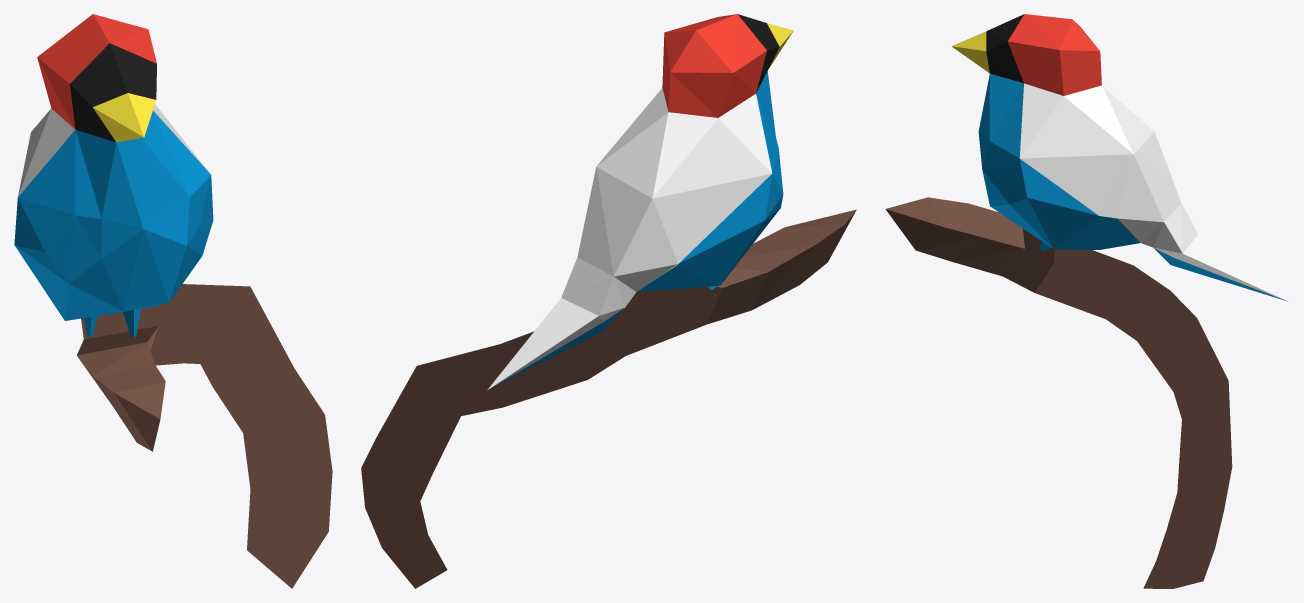
File: animals-bird-014.glb
The picture shows the model from 3 angles, left to right: view 1: azimuth 30°, elevation 25°; view 2: azimuth 150°, elevation 25°; view 3: azimuth 270°, elevation 25°; orthographic projection. The views are drawn at different scales.
Visible parts, largest first — view 1: Node; view 2: Node; view 3: Node.
Boxes of the visible parts, <box> form: Node: <box>14,14,332,588</box>; Node: <box>361,14,856,588</box>; Node: <box>885,14,1288,588</box>.
Size of the model in its own units: 0.3324 by 0.5313 by 0.4036.
